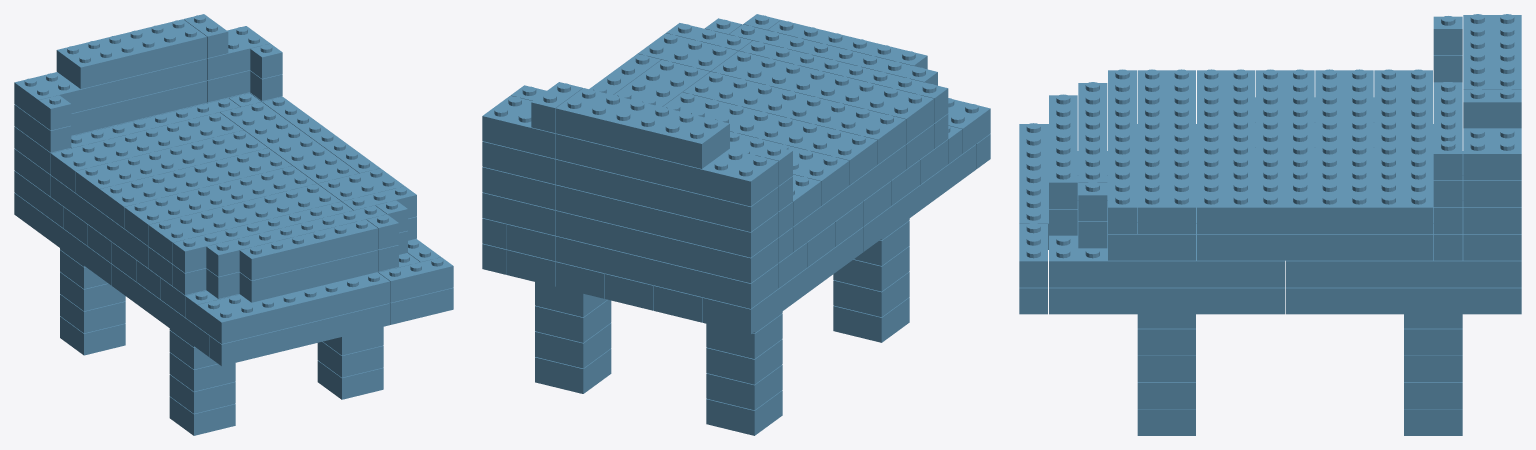
File: 027_bed_L2.glb
3 views of the same model, side by side, from view 1: azimuth 30°, elevation 25°; view 2: azimuth 150°, elevation 25°; view 3: azimuth 270°, elevation 25° (orthographic). The views are drawn at different scales.
Bounding box in the file's own units: 10.98 × 12.13 × 16.98.
